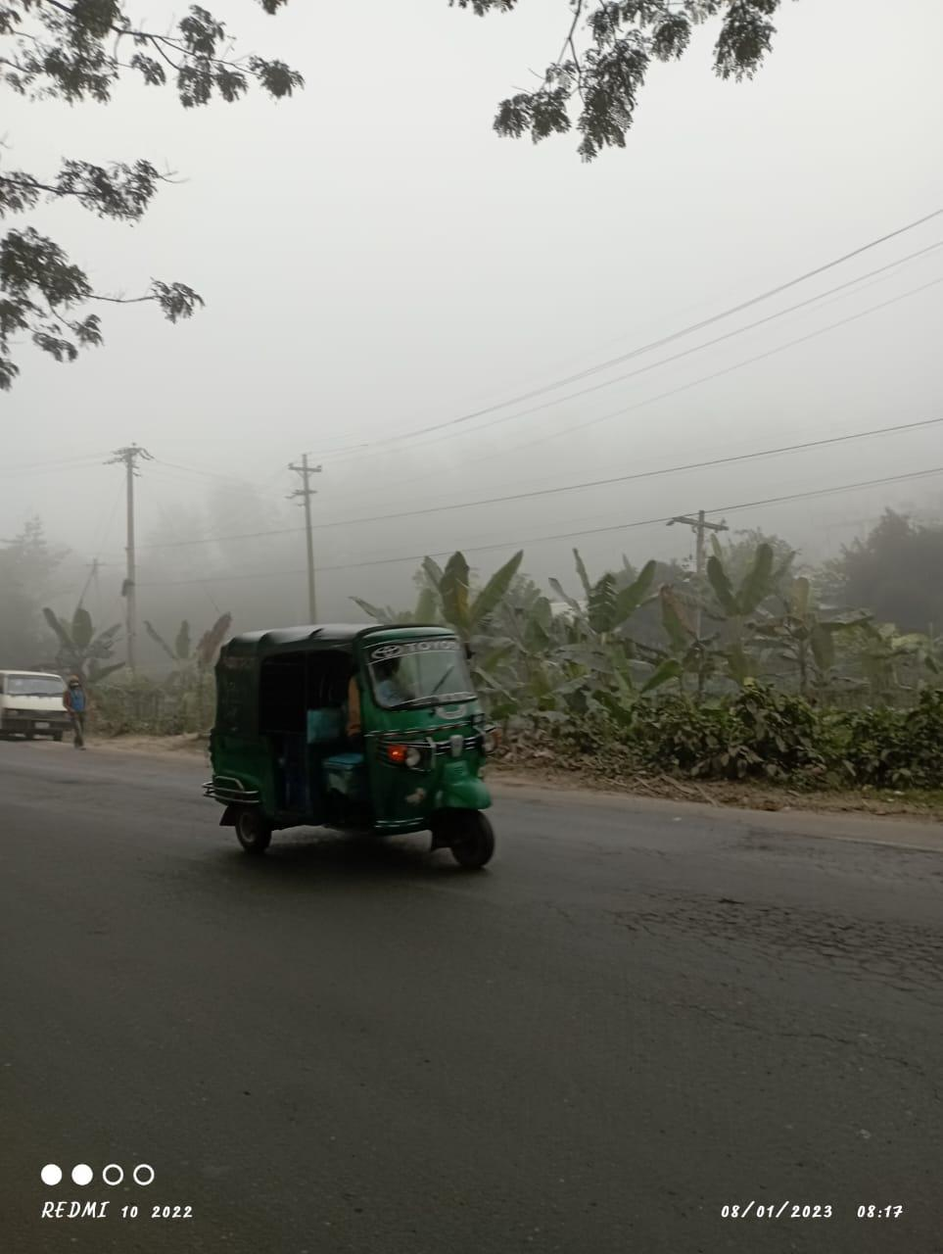Car: (1, 669, 74, 737)
